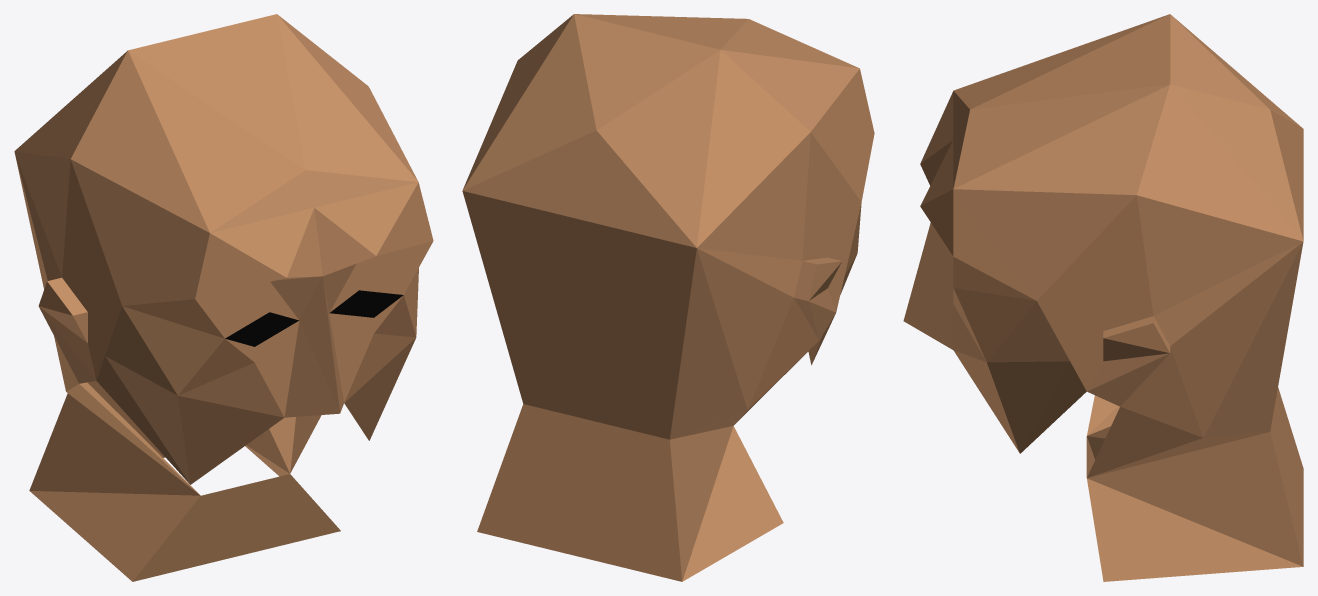
The model's file is model_230_idk.obj.
The picture shows the model from 3 angles, left to right: view 1: azimuth 30°, elevation 25°; view 2: azimuth 150°, elevation 25°; view 3: azimuth 270°, elevation 25°; orthographic projection. The views are drawn at different scales.
Parts seen in each view (by area): view 1: 230; view 2: 230; view 3: 230.
Boxes of the visible parts, <box> form: 230: <box>14,14,433,581</box>; 230: <box>462,14,874,581</box>; 230: <box>903,14,1303,581</box>.
Size of the model in its own units: 22 by 32 by 24.
